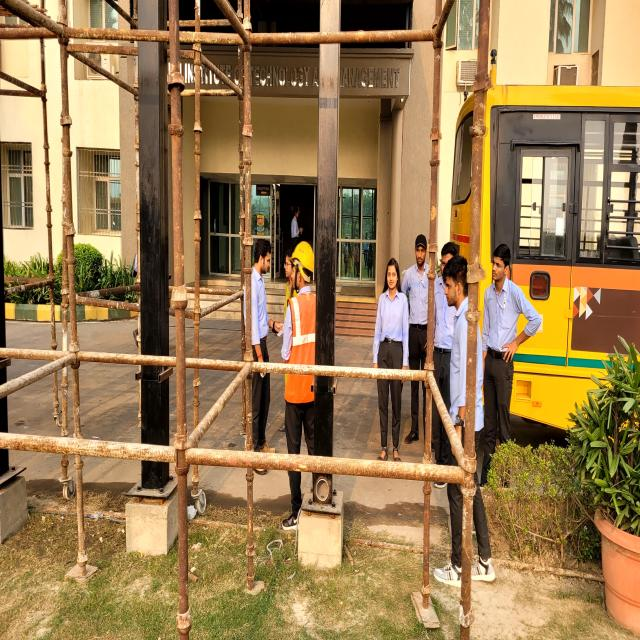safe: (280, 236, 318, 529)
unsafe: (442, 246, 496, 590), (483, 240, 542, 484), (374, 257, 410, 467), (252, 239, 278, 482), (408, 230, 434, 446), (290, 209, 303, 258)
